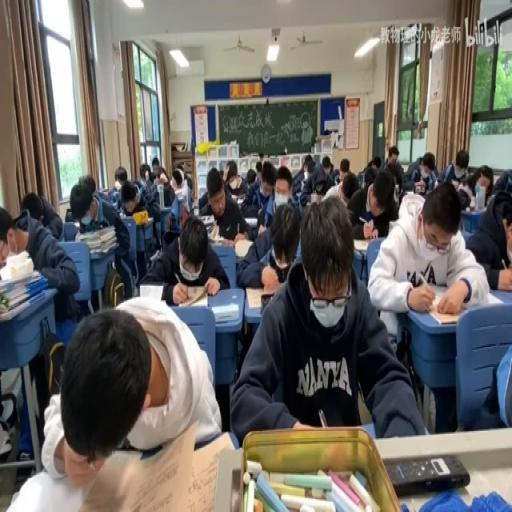calculator: (82, 417, 200, 509), (1, 466, 88, 512), (0, 289, 45, 320), (0, 266, 43, 292), (106, 445, 142, 461), (474, 287, 504, 306), (427, 307, 460, 324), (210, 302, 238, 322), (234, 238, 254, 258), (212, 232, 234, 246), (404, 189, 426, 201), (134, 213, 154, 226), (352, 239, 370, 252), (198, 213, 214, 225), (243, 214, 258, 224), (427, 176, 440, 186), (149, 248, 159, 260), (98, 185, 107, 193), (358, 216, 367, 223)
paper: (227, 194, 419, 442), (0, 193, 81, 451), (69, 175, 136, 299), (143, 213, 227, 303), (465, 179, 512, 287), (466, 332, 512, 430), (346, 165, 396, 237), (294, 158, 333, 209), (220, 159, 253, 216), (0, 202, 26, 270), (152, 169, 178, 233), (118, 179, 152, 222), (402, 151, 436, 192), (270, 162, 294, 218), (440, 150, 469, 186), (19, 192, 45, 222), (106, 165, 128, 199), (490, 171, 512, 199), (387, 165, 404, 199), (341, 176, 357, 205), (338, 156, 350, 184), (82, 174, 95, 196), (138, 164, 152, 184), (456, 189, 470, 209), (387, 145, 399, 165), (481, 168, 491, 190), (170, 171, 182, 189), (364, 168, 376, 186), (302, 154, 312, 174), (245, 166, 256, 184), (322, 154, 331, 174), (279, 156, 290, 170), (372, 156, 382, 170), (63, 206, 73, 220), (152, 156, 159, 174), (331, 168, 340, 182), (254, 161, 262, 176), (185, 174, 192, 189)
person: (384, 452, 470, 496), (259, 293, 274, 313), (302, 194, 312, 206)
